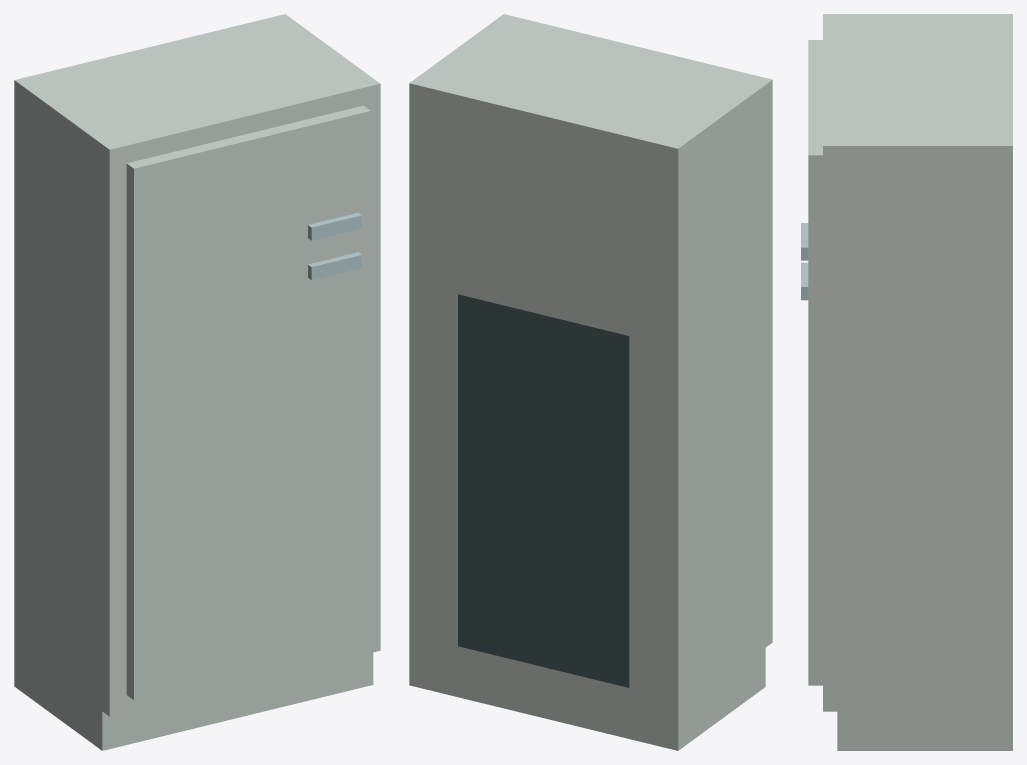
The model's file is Kitchen Fridge.glb.
3 renders of one model, left to right at view 1: azimuth 30°, elevation 25°; view 2: azimuth 150°, elevation 25°; view 3: azimuth 270°, elevation 25°, orthographic.
Parts seen in each view (by area): view 1: kitchenFridge(Clone), doorFridge, doorFreezer; view 2: kitchenFridge(Clone); view 3: kitchenFridge(Clone), doorFridge, doorFreezer.
Boxes of the visible parts, <box> form: kitchenFridge(Clone): <box>14,14,380,750</box>; doorFridge: <box>126,236,370,699</box>; doorFreezer: <box>126,105,370,293</box>; kitchenFridge(Clone): <box>409,14,772,750</box>; kitchenFridge(Clone): <box>823,14,1012,750</box>; doorFridge: <box>801,262,822,685</box>; doorFreezer: <box>801,40,822,279</box>.
Bounding box in the file's own units: 0.43 × 0.92 × 0.2919.
